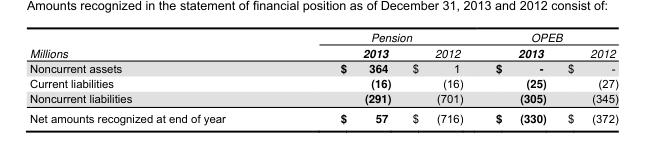table: (29, 28, 617, 125)
table column: (29, 28, 282, 125), (282, 28, 401, 125), (478, 28, 556, 125), (401, 28, 478, 125), (556, 28, 617, 125)
table column header: (29, 28, 617, 60)
table row: (29, 90, 617, 108), (29, 108, 617, 125), (29, 28, 617, 44), (29, 44, 617, 60), (29, 60, 617, 75), (29, 75, 617, 90)
table spanning cell: (29, 28, 282, 60), (282, 28, 478, 44), (478, 28, 617, 44)
